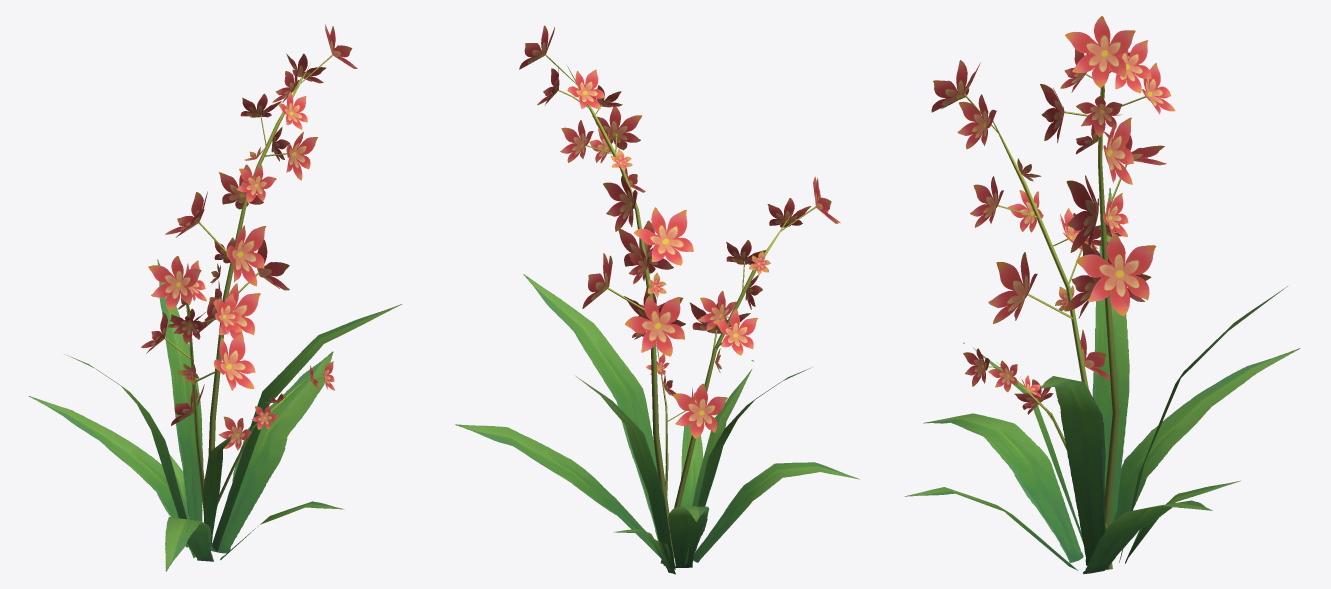
Rendered from Area_MdProps_Flower06.fbx.
3 renders of one model, left to right at view 1: azimuth 30°, elevation 25°; view 2: azimuth 150°, elevation 25°; view 3: azimuth 270°, elevation 25°, orthographic. The views are drawn at different scales.
Parts seen in each view (by area): view 1: Area_MdProps_Flower06_Lod0; view 2: Area_MdProps_Flower06_Lod0; view 3: Area_MdProps_Flower06_Lod0.
Boxes of the visible parts, x1=… form: Area_MdProps_Flower06_Lod0: x1=28, y1=24, x2=401, y2=571; Area_MdProps_Flower06_Lod0: x1=455, y1=25, x2=859, y2=574; Area_MdProps_Flower06_Lod0: x1=904, y1=16, x2=1300, y2=574.
Bounding box in the file's own units: 0.8855 × 1.27 × 0.773.
Materials: 1 (1 with a texture image).
